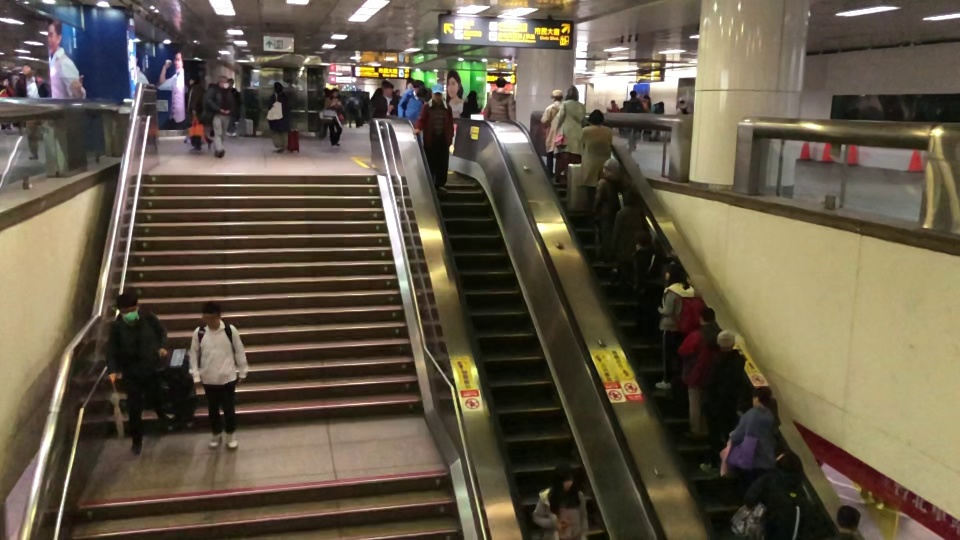person_head: (544, 464, 582, 511), (771, 453, 802, 493), (112, 287, 142, 321), (198, 297, 223, 333), (746, 385, 773, 412), (834, 506, 861, 532), (425, 86, 446, 116), (713, 329, 738, 353), (663, 256, 685, 280), (585, 110, 606, 129), (636, 229, 656, 248), (377, 80, 398, 98), (215, 75, 234, 94), (698, 306, 715, 326), (602, 157, 620, 175), (564, 84, 581, 103), (490, 75, 506, 94), (545, 88, 563, 104), (20, 66, 36, 83), (420, 83, 432, 104), (267, 81, 283, 95), (623, 195, 638, 209), (329, 83, 340, 101), (411, 79, 421, 98), (468, 89, 481, 101), (676, 96, 688, 107), (627, 91, 640, 101)
person_vbox: (96, 289, 173, 457), (188, 296, 253, 458), (652, 256, 706, 393), (696, 329, 744, 468), (720, 384, 780, 479), (679, 304, 719, 433), (751, 454, 808, 540), (532, 462, 590, 539), (421, 88, 459, 194), (11, 63, 51, 158), (574, 108, 613, 190), (534, 86, 566, 179), (368, 78, 398, 166), (204, 74, 236, 156), (558, 83, 586, 176), (263, 83, 293, 155), (594, 156, 625, 222), (320, 83, 349, 151), (619, 195, 648, 259), (487, 74, 520, 127), (815, 507, 866, 540), (631, 226, 659, 284), (620, 90, 644, 150), (395, 77, 420, 122), (416, 80, 431, 140), (460, 87, 485, 123), (666, 94, 693, 121)
